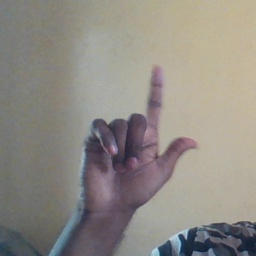L: (77, 60, 200, 209)
